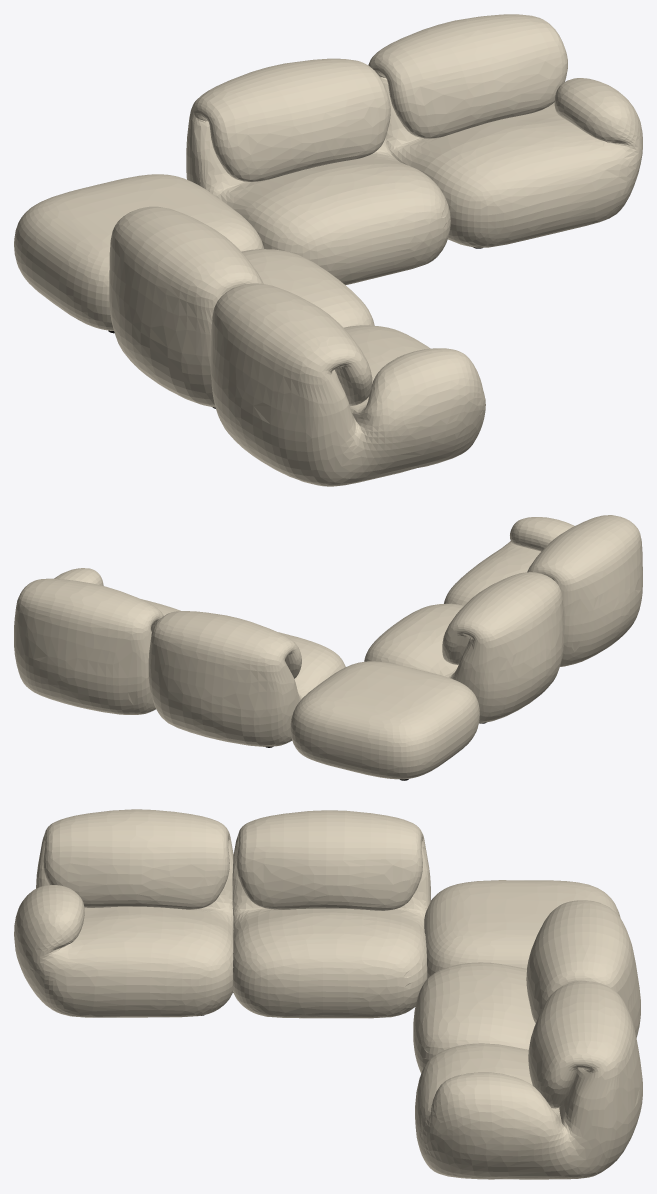
File: LuvaCorner.obj
3 views of the same model, one above another, from view 1: azimuth 30°, elevation 25°; view 2: azimuth 150°, elevation 25°; view 3: azimuth 270°, elevation 25° (orthographic). The views are drawn at different scales.
Visible parts, largest first — view 1: SEAT-FABRIC; view 2: SEAT-FABRIC; view 3: SEAT-FABRIC.
Part boxes in pixels (x1=…): SEAT-FABRIC: x1=14, y1=14, x2=642, y2=486; SEAT-FABRIC: x1=14, y1=515, x2=642, y2=779; SEAT-FABRIC: x1=14, y1=809, x2=642, y2=1179.
Bounding box in the file's own units: 2.95 × 0.7231 × 2.95.
